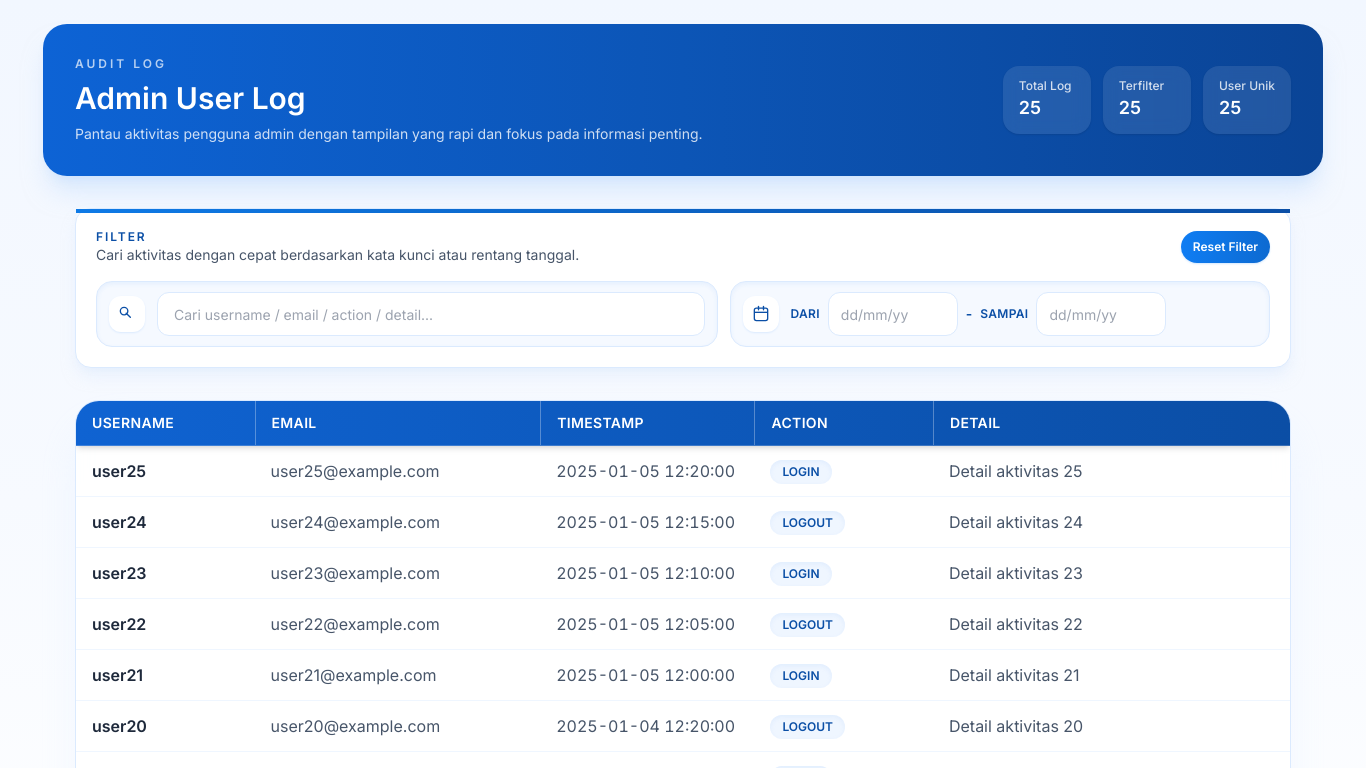
Test case: Admin User Log Page › search filter narrows rows and shows empty state when unmatched
Type "user17" into the field with placeholder "Cari username / email / action / detail...".
click(431, 314); type("user17")  # box [157, 292, 704, 336]
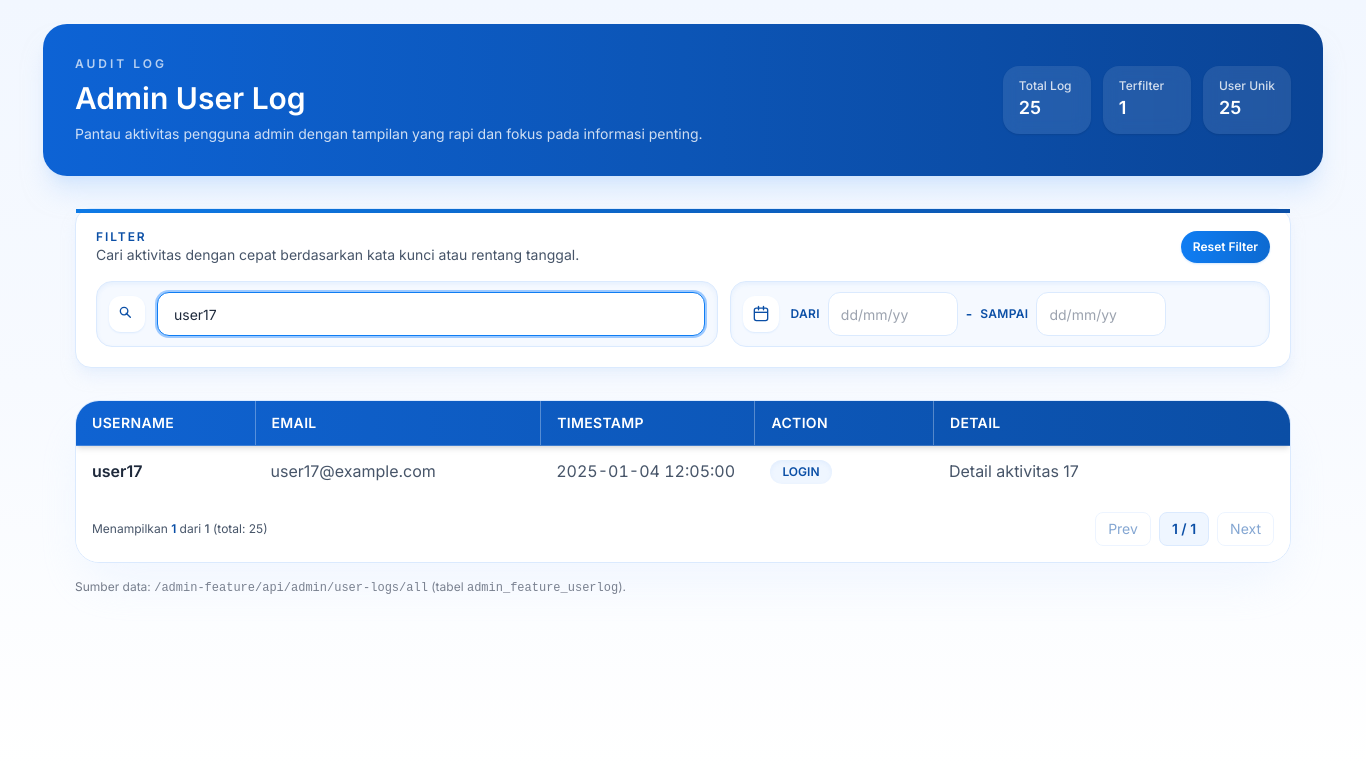
Check: the list item shows "user17", box [92, 461, 142, 481]
Check: the text "Menampilkan 1 dari 1 (total: 25)" is shown, box [92, 521, 268, 537]
Replace the text in the field with placeholder "Cari username / email / action / detail..." with "tidak-ada" at {"x": 431, "y": 314}, box [157, 292, 704, 336]
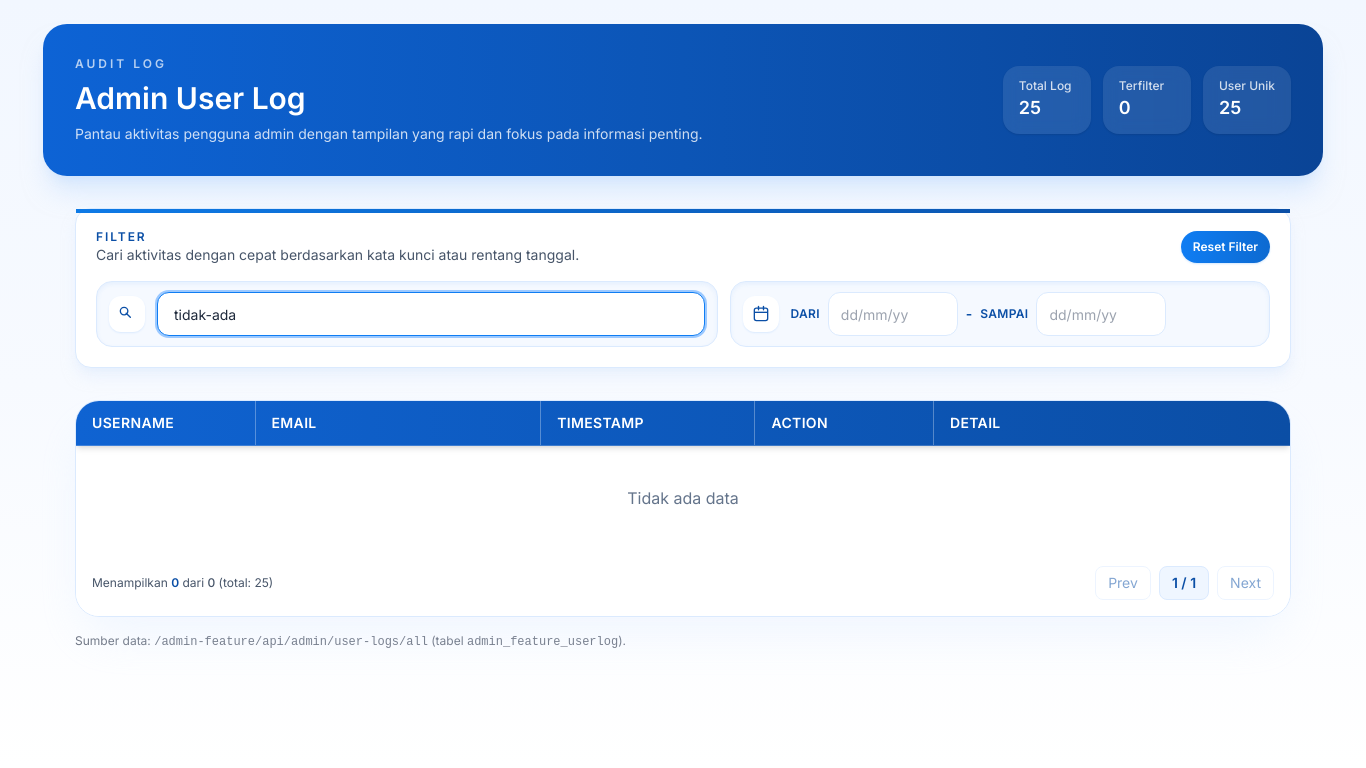
Check: the text "Tidak ada data" is shown, box [627, 488, 739, 508]
Check: the text "Menampilkan 0 dari 0 (total: 25)" is shown, box [92, 575, 273, 591]
